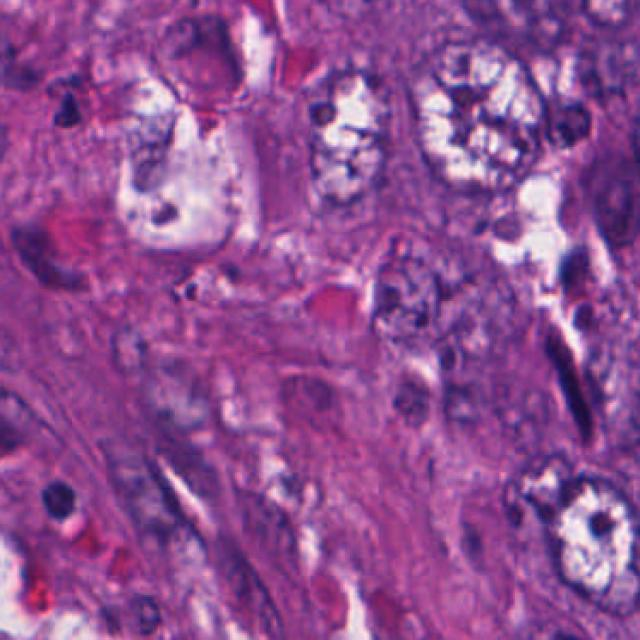fibroblast: (192, 515, 288, 640), (106, 420, 182, 541), (2, 211, 94, 308), (235, 472, 304, 562), (136, 349, 214, 415), (161, 424, 220, 486), (278, 365, 336, 426), (393, 374, 432, 422)
tumor: (407, 21, 540, 197), (539, 476, 640, 611), (299, 69, 388, 204), (503, 432, 578, 533), (441, 265, 530, 348), (432, 329, 494, 429), (388, 240, 453, 334), (532, 80, 601, 149)
unlabeled: (448, 476, 523, 576), (163, 0, 237, 76), (46, 61, 93, 125), (494, 377, 552, 422), (38, 469, 86, 521), (130, 123, 166, 185)
